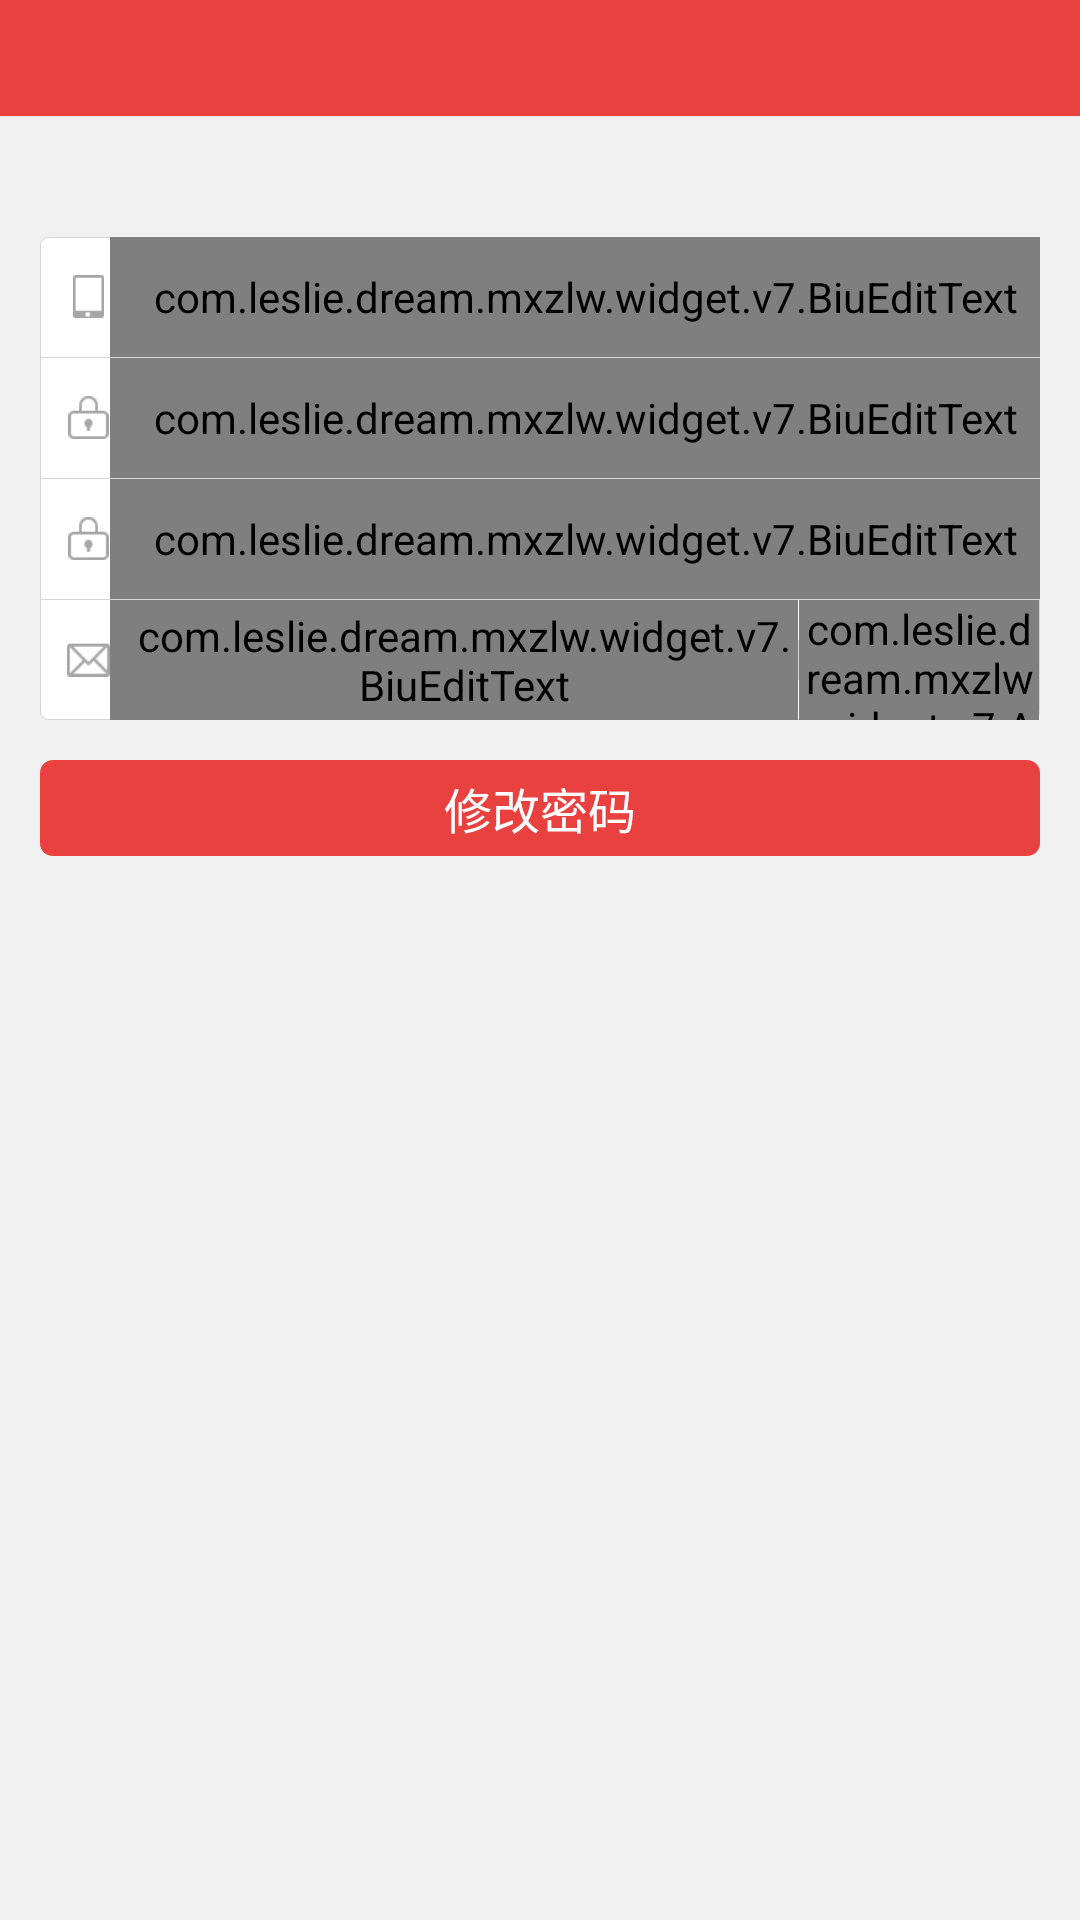

Named icons in this screenshot (1080×1920) and their bounding boxes, (x1, y1, x2, y2):
message: (67, 643, 110, 677)
passwd: (68, 396, 109, 439), (68, 517, 109, 560)
phone: (73, 275, 104, 318)
